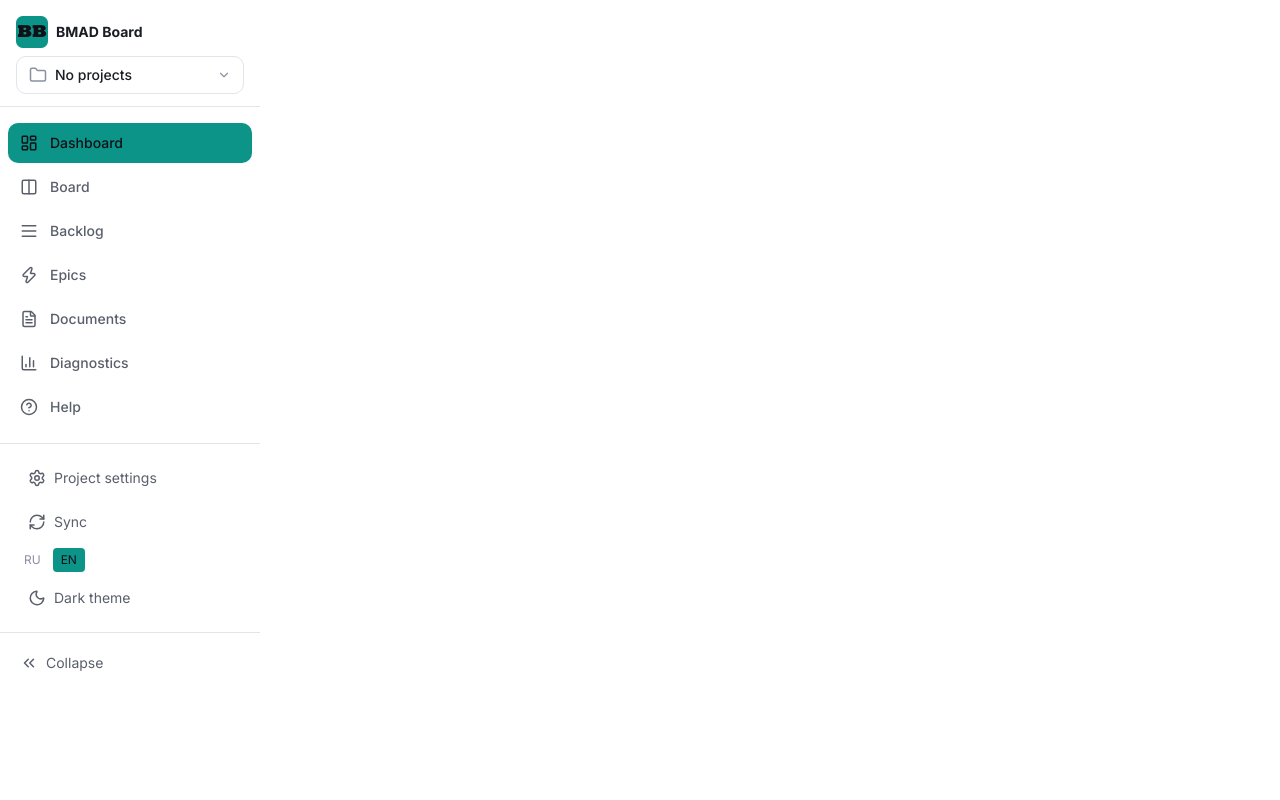
Scenario: Sidebar sync button › shows sync failure toast after forceFullSync rejects
The width and height of the screenshot is (1280, 800).
Click the button titled "Force re-sync all project files": (130, 522) x1=16 y1=504 x2=244 y2=540
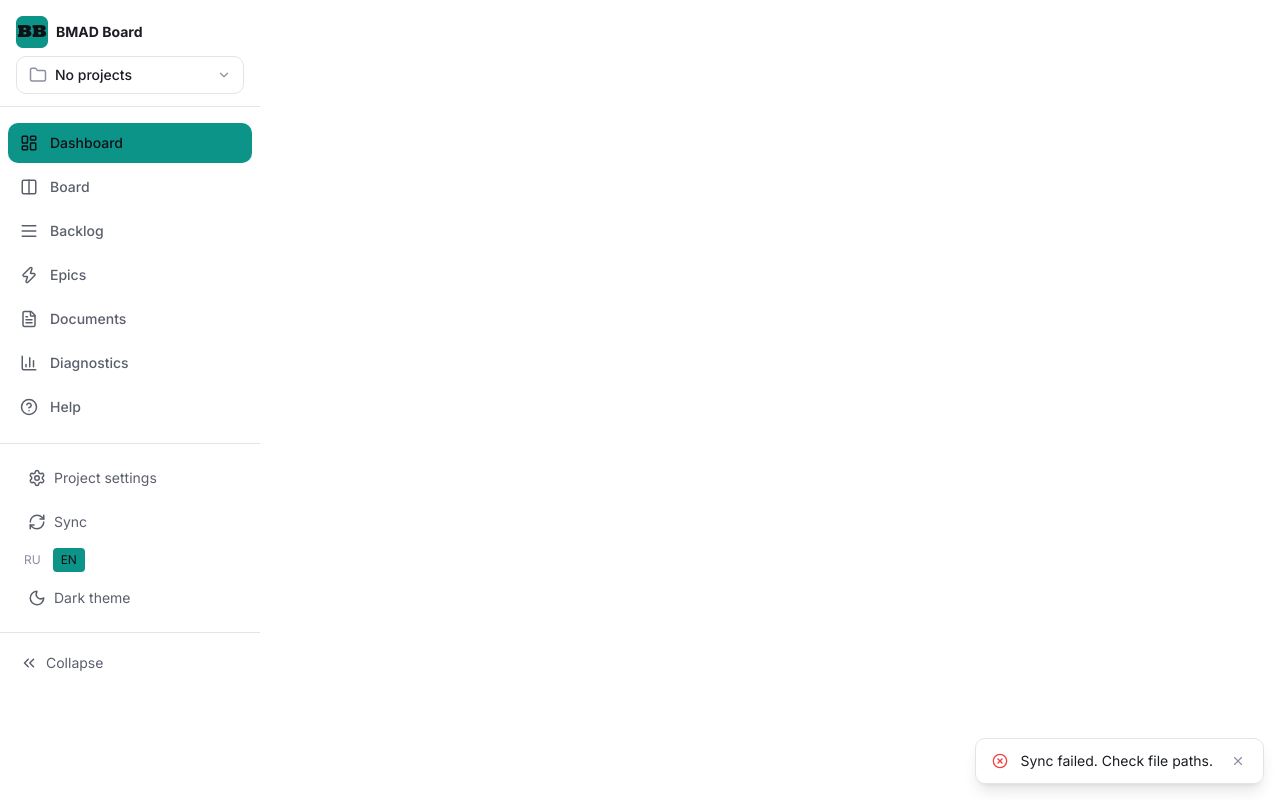
Now the text "Sync failed. Check file paths." is shown, box x1=1020 y1=751 x2=1213 y2=771
